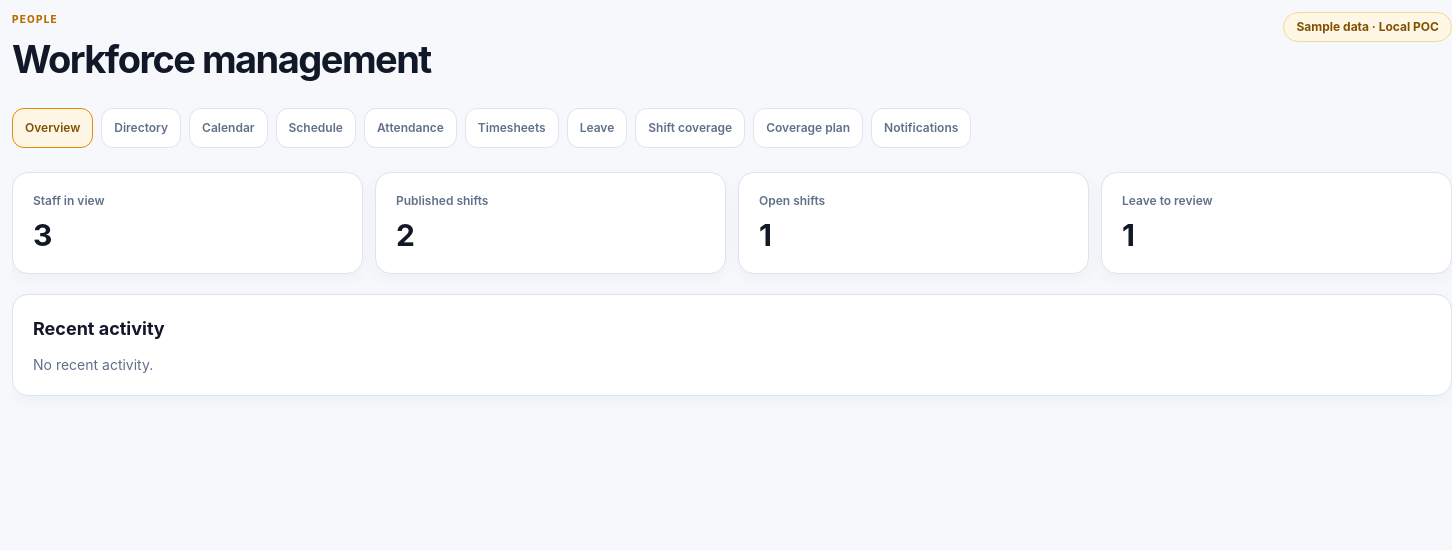
local workforce POC › labels all sample records and lets the owner create staff
The image size is (1452, 550).
Check: the text "Sample data · Local POC" is shown, box [1284,12,1451,42]
Click the button "Directory": (141, 128) [101,108,181,148]
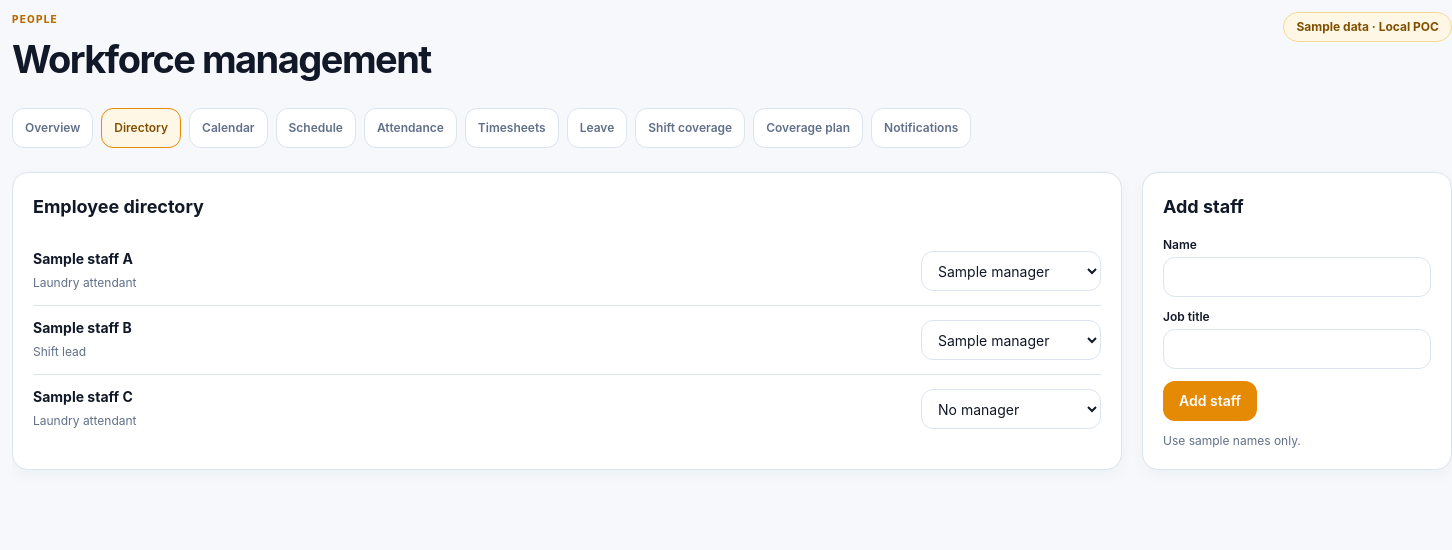
Check: the text "Sample staff C" is shown, box [33,387,136,407]
In the field labelled "Name": (1297, 277) [1163,257,1431,297], type "Sample staff D"
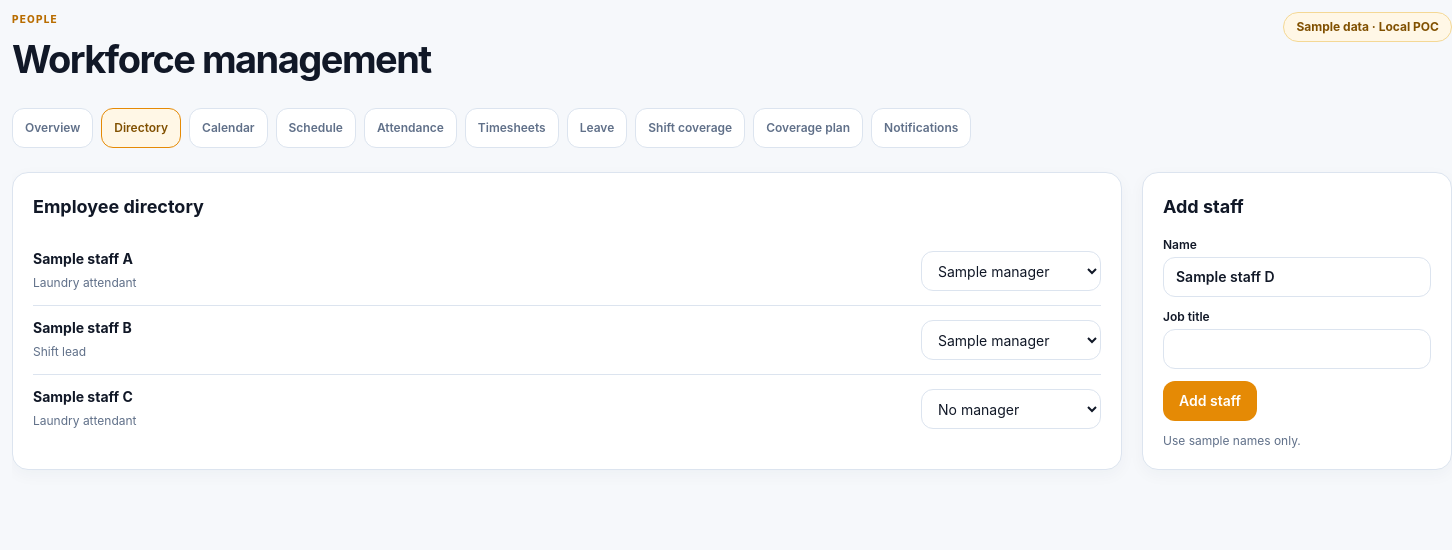
In the field labelled "Job title": (1297, 349) [1163,329,1431,369], type "Attendant"
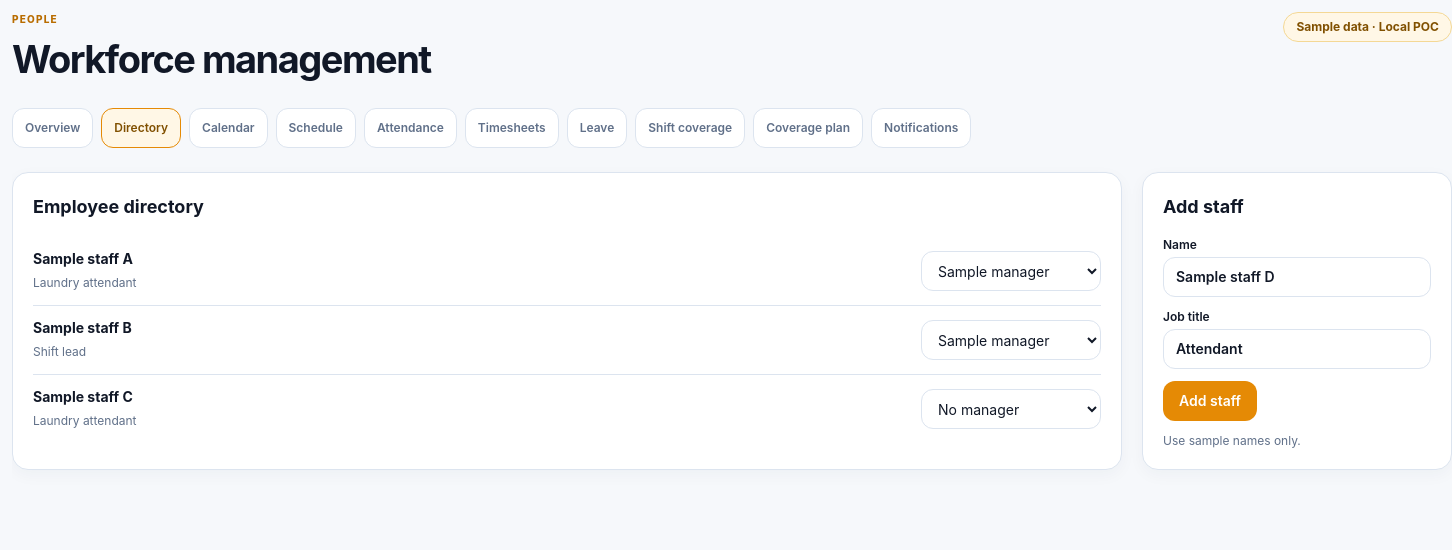
Click the button "Add staff": (1210, 401) [1163,381,1257,421]
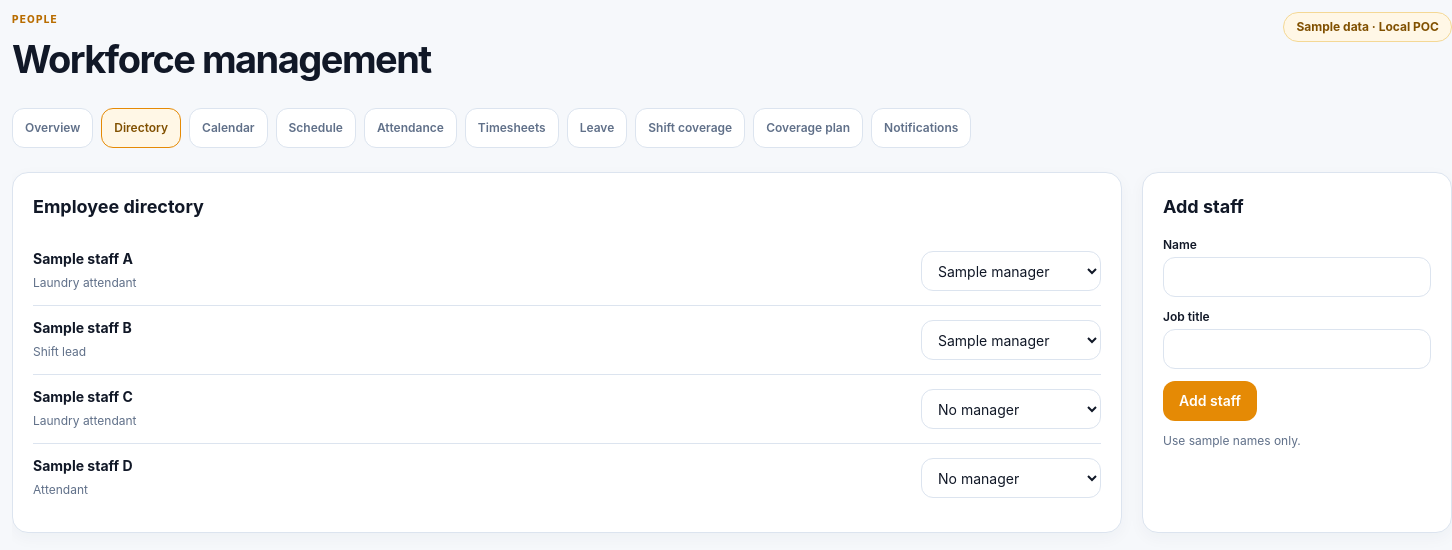
Check: the text "Sample staff D" is shown, box [33,456,132,476]
